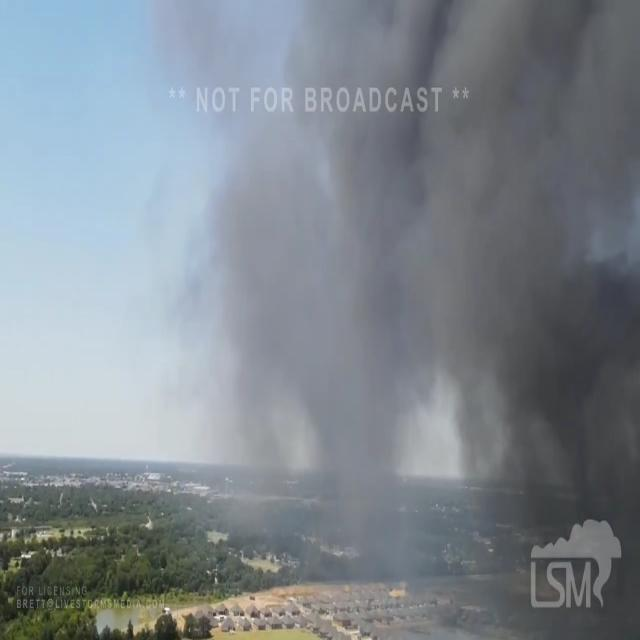Smoke: (233, 27, 626, 476)
